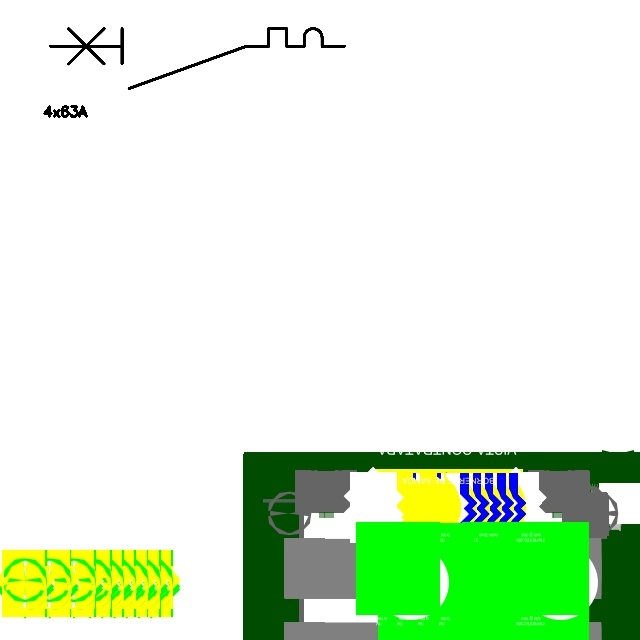interruptor_termomagnetico: (43, 21, 352, 96)
